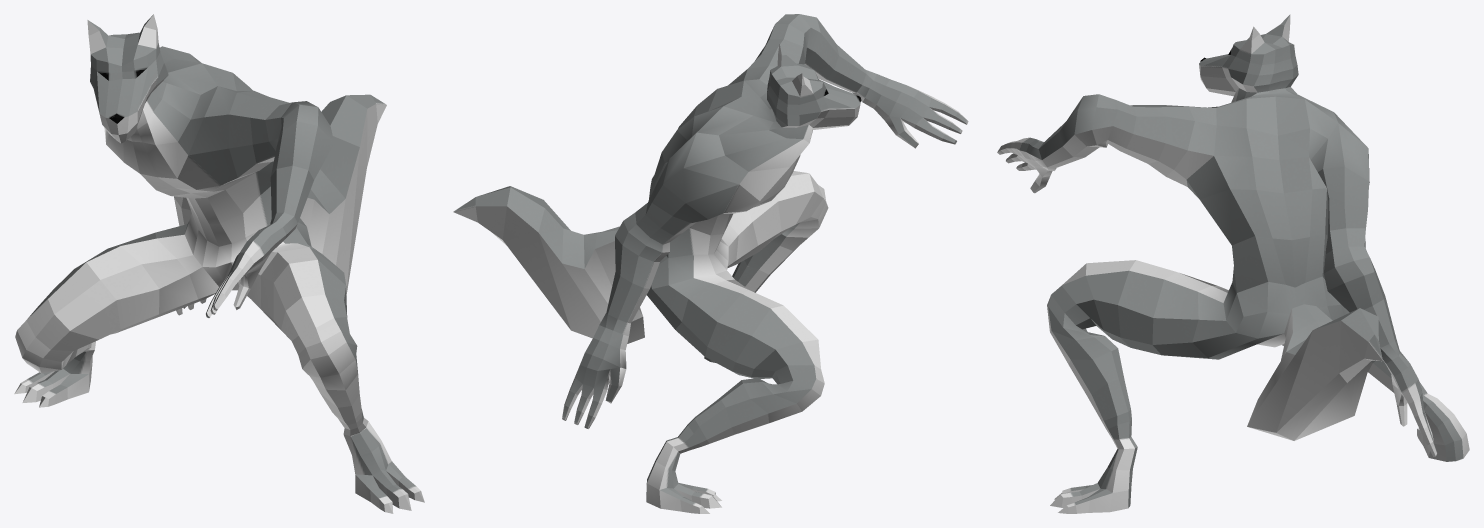
Rendered from WolfAttack(24).obj.
3 views of the same model, side by side, from view 1: azimuth 30°, elevation 25°; view 2: azimuth 150°, elevation 25°; view 3: azimuth 270°, elevation 25° (orthographic). The views are drawn at different scales.
Parts seen in each view (by area): view 1: Box001; view 2: Box001; view 3: Box001.
Part boxes in pixels (x1,y1,x2,y2): Box001: [14, 14, 424, 513]; Box001: [453, 14, 968, 513]; Box001: [997, 14, 1469, 513].
Bounding box in the file's own units: 99.53 × 110 × 113.
